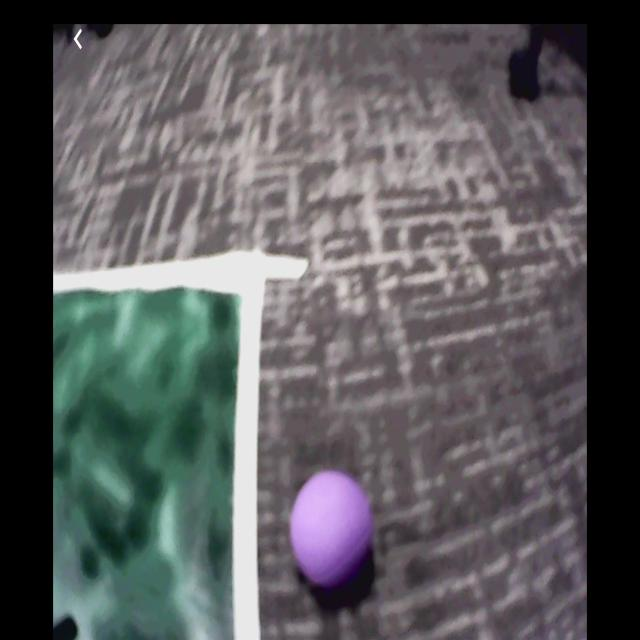ball: (289, 468, 376, 598)
